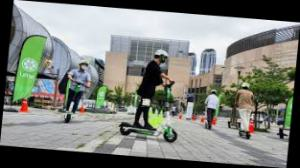helmet: (117, 45, 188, 145), (61, 57, 96, 126), (230, 80, 260, 141), (200, 87, 223, 131)
